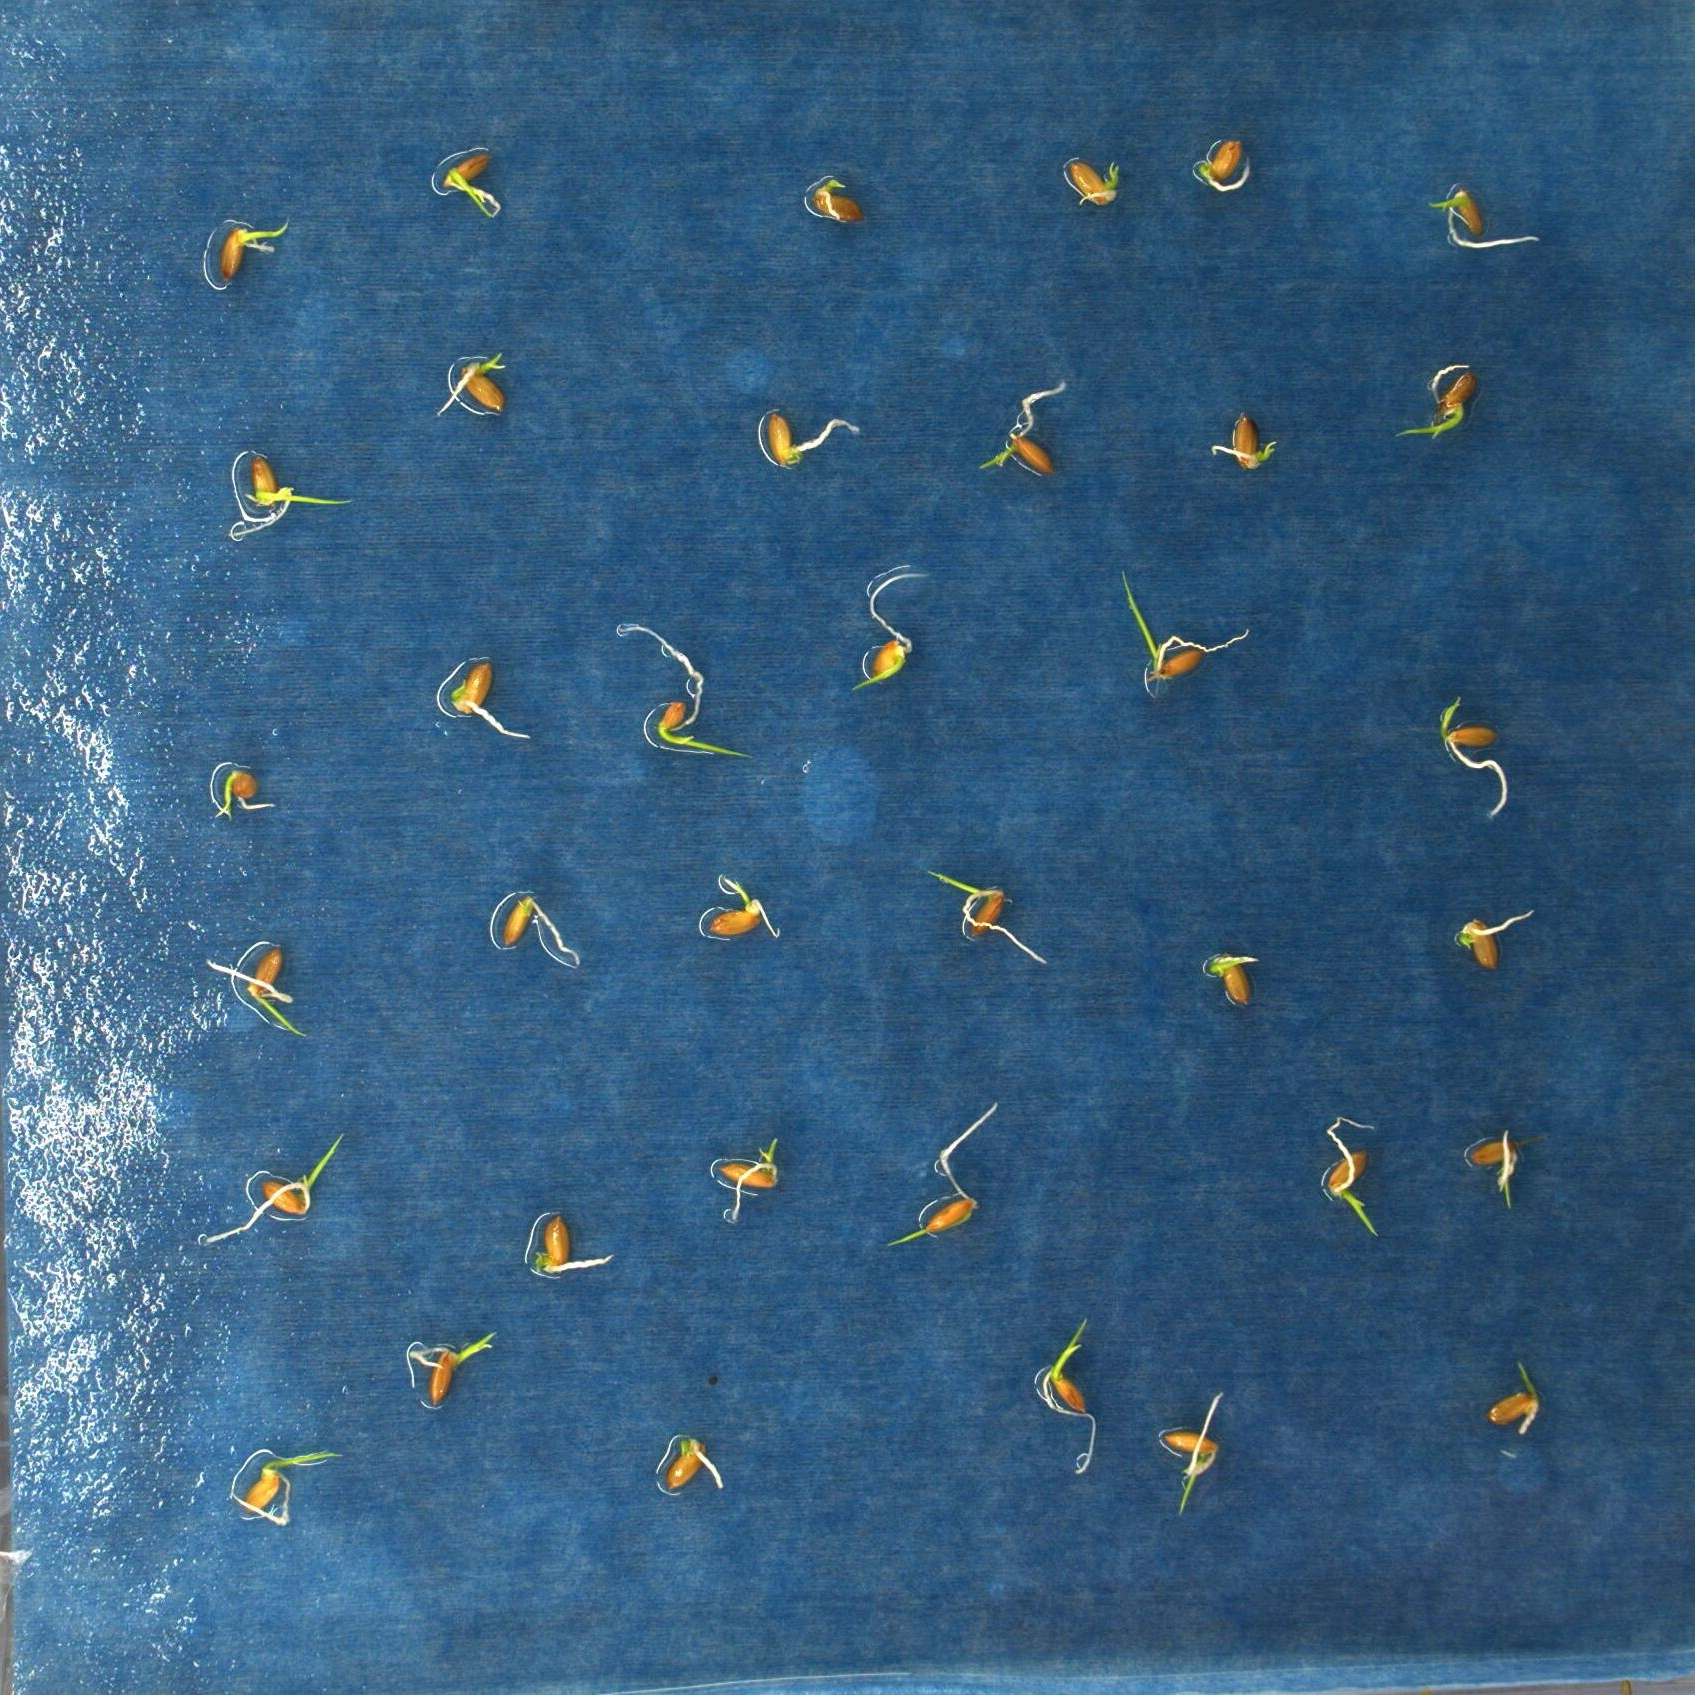not sprout: (487, 886, 587, 978), (438, 652, 528, 745), (747, 400, 861, 469), (649, 1420, 737, 1501), (1451, 900, 1538, 972), (526, 1208, 618, 1274), (1194, 944, 1267, 1014), (1057, 151, 1127, 210), (1194, 129, 1251, 200), (798, 182, 875, 230)
sprout: (618, 615, 762, 767), (874, 1096, 1012, 1253), (1118, 570, 1257, 700), (200, 1127, 355, 1242), (1024, 1310, 1118, 1490), (837, 560, 941, 703), (927, 863, 1049, 973), (206, 936, 329, 1045), (217, 1436, 352, 1534), (969, 369, 1076, 492), (227, 441, 351, 542), (1309, 1107, 1388, 1243), (1155, 1389, 1239, 1518), (1437, 685, 1518, 818), (393, 1321, 506, 1409), (1423, 182, 1555, 255), (702, 1132, 795, 1218), (202, 203, 293, 290), (1397, 355, 1479, 447), (689, 872, 787, 947), (425, 149, 515, 225), (435, 348, 515, 428), (200, 756, 284, 832), (1473, 1352, 1546, 1437), (1462, 1130, 1523, 1208), (1212, 414, 1273, 469)
